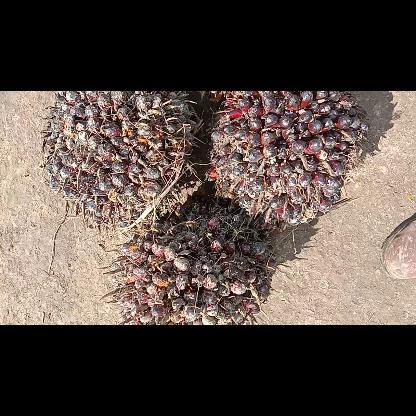Kurang masak: (201, 90, 371, 228), (104, 196, 278, 324), (40, 91, 198, 227)
